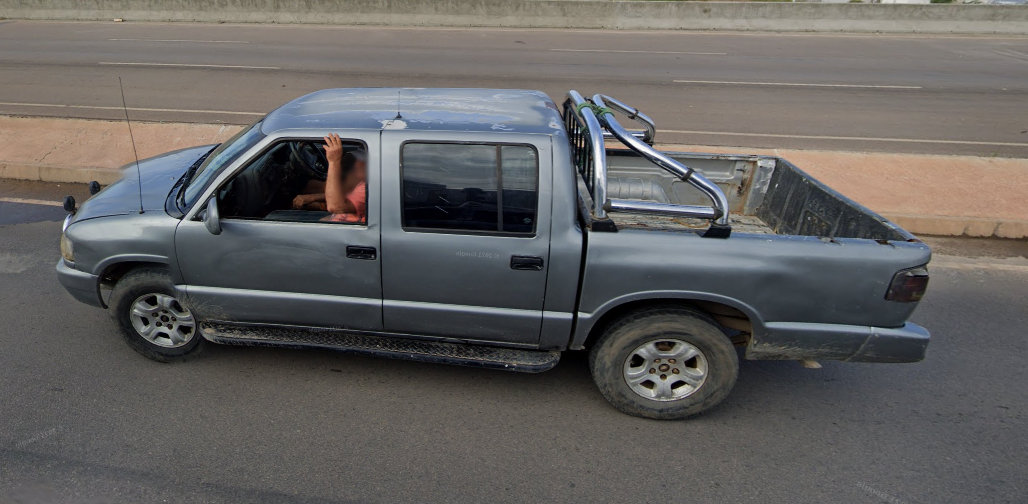car: (47, 75, 936, 424)
